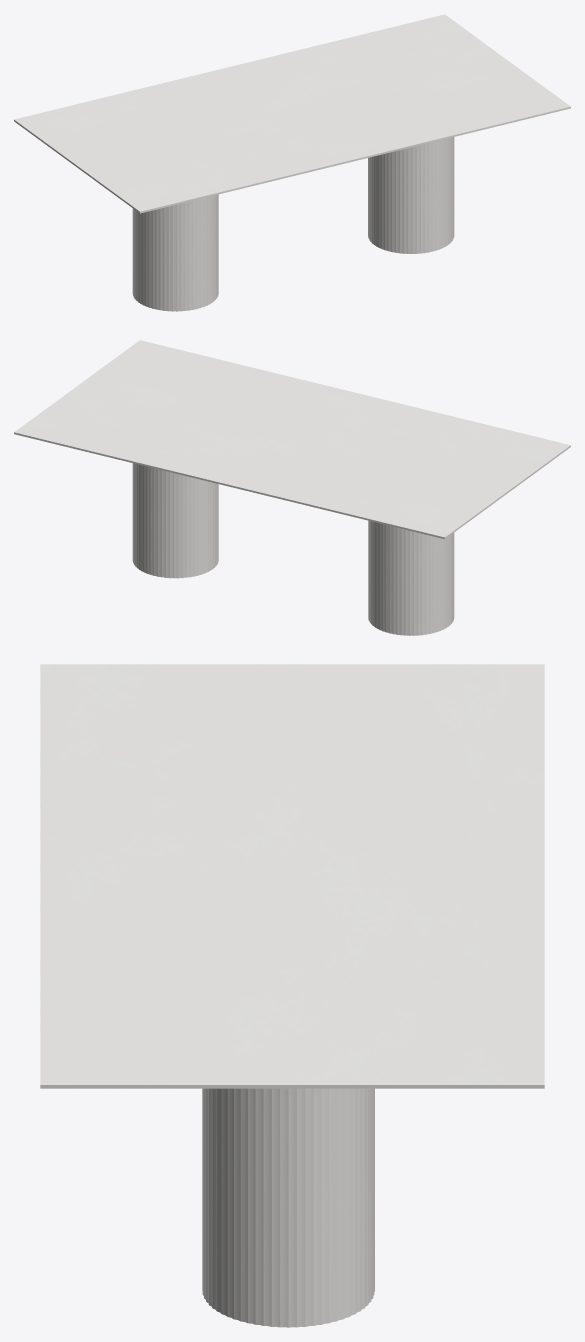
File: purewhite_recta_facet_ripplesecond.glb
3 views of the same model, one above another, from view 1: azimuth 30°, elevation 25°; view 2: azimuth 150°, elevation 25°; view 3: azimuth 270°, elevation 25° (orthographic). The views are drawn at different scales.
Parts seen in each view (by area): view 1: facet_recta, ripplesecond; view 2: facet_recta, ripplesecond; view 3: facet_recta, ripplesecond.
Part boxes in pixels (x1,y1,x2,y2): facet_recta: [14, 14, 570, 213]; ripplesecond: [132, 137, 454, 311]; facet_recta: [14, 340, 570, 539]; ripplesecond: [132, 463, 454, 635]; facet_recta: [40, 664, 544, 1088]; ripplesecond: [202, 1088, 374, 1327].
Size of the model in its own units: 7.5 by 2.51 by 3.8.
Materials: 1 (1 with a texture image).
